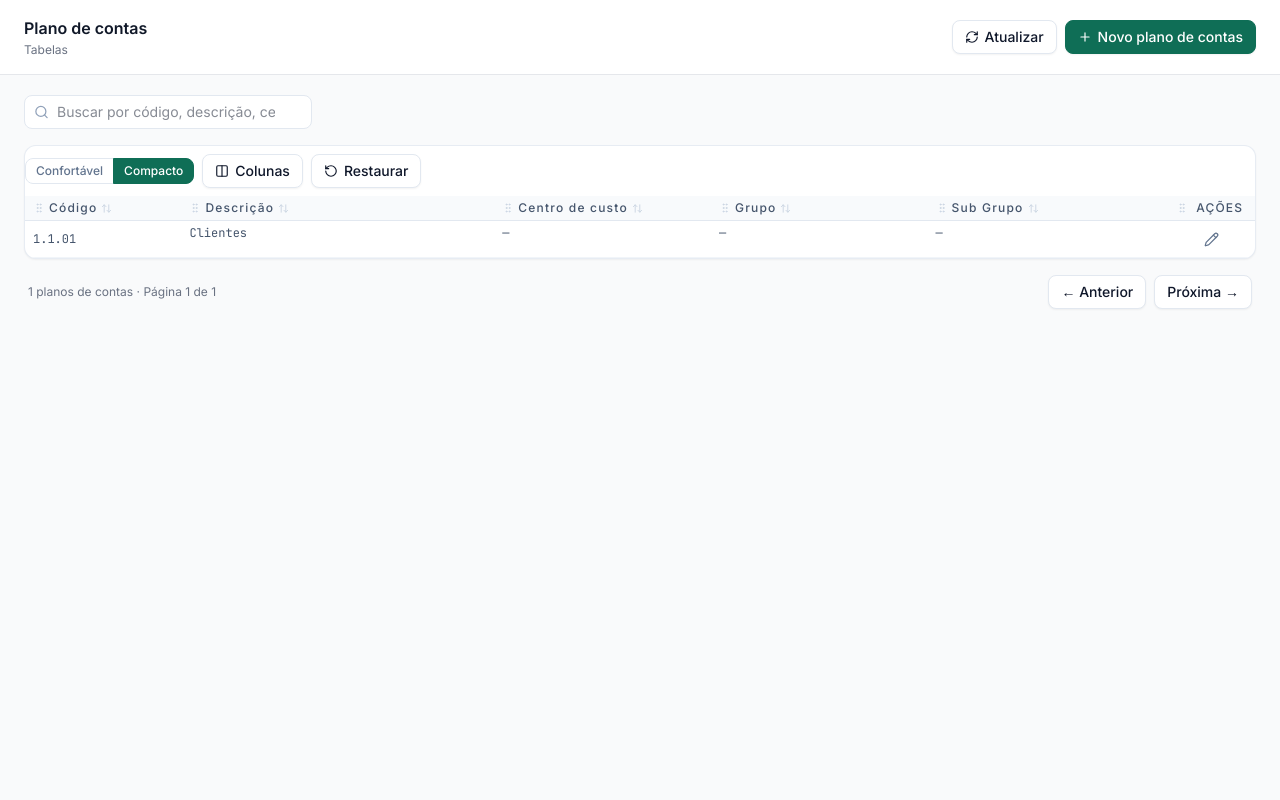
Scenario: ChartAccountsPage › abre o modal ao clicar em "Novo plano de contas"
The image size is (1280, 800).
Expected: the text "Clientes" is shown, [182, 220, 494, 258]
Click the button "Novo plano de contas": (1160, 37) [1065, 20, 1256, 54]
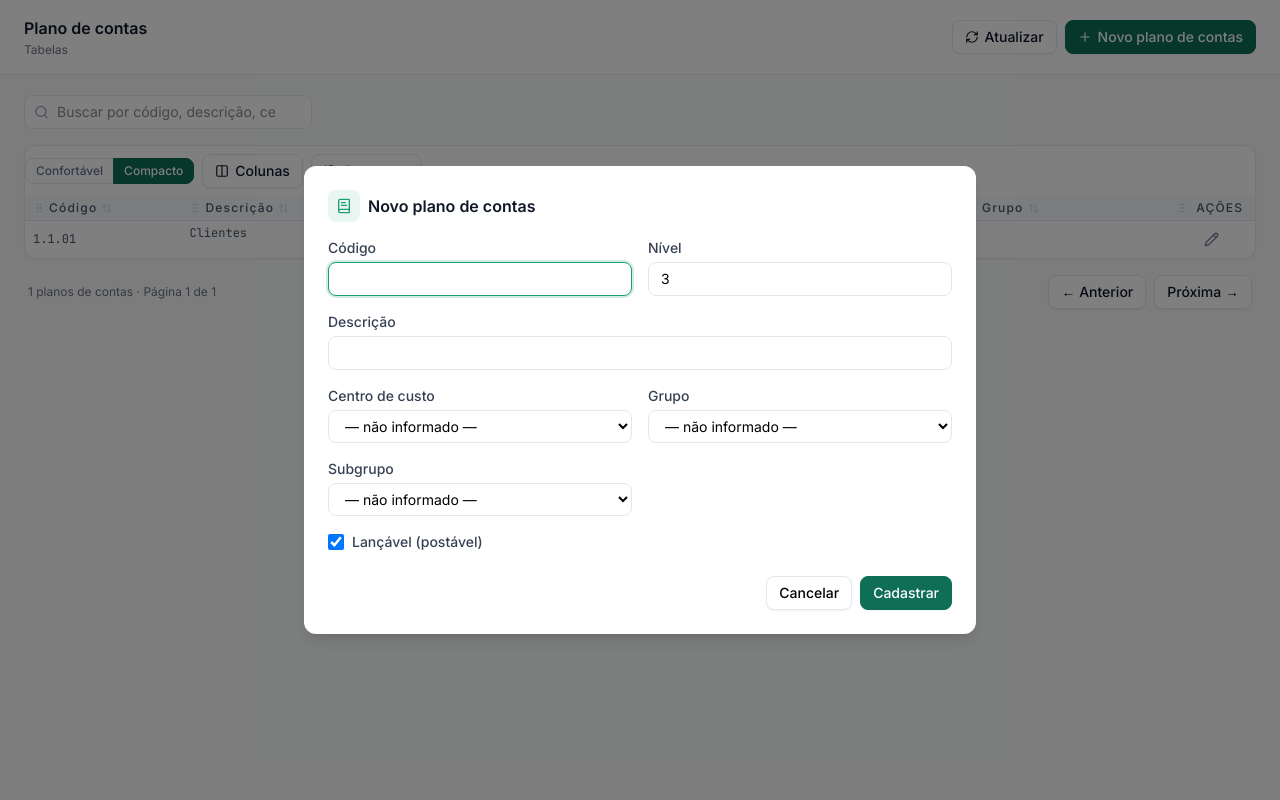
Expected: the button "Cadastrar" is shown, [860, 576, 952, 610]
